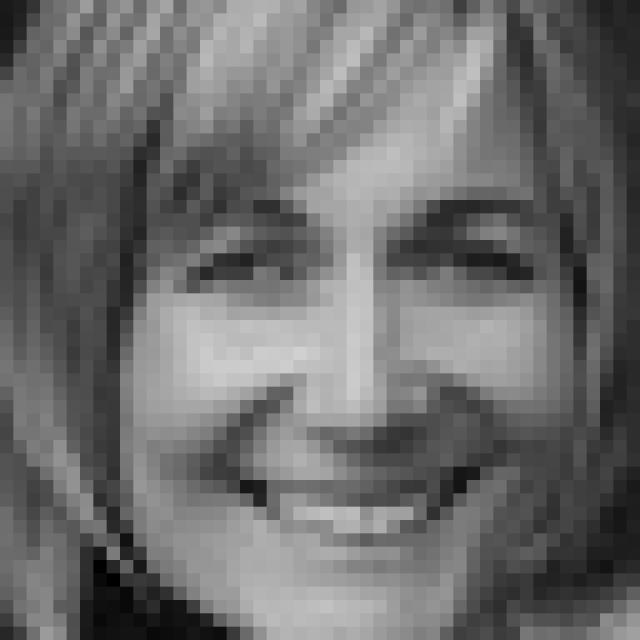happy: (171, 186, 550, 579)
